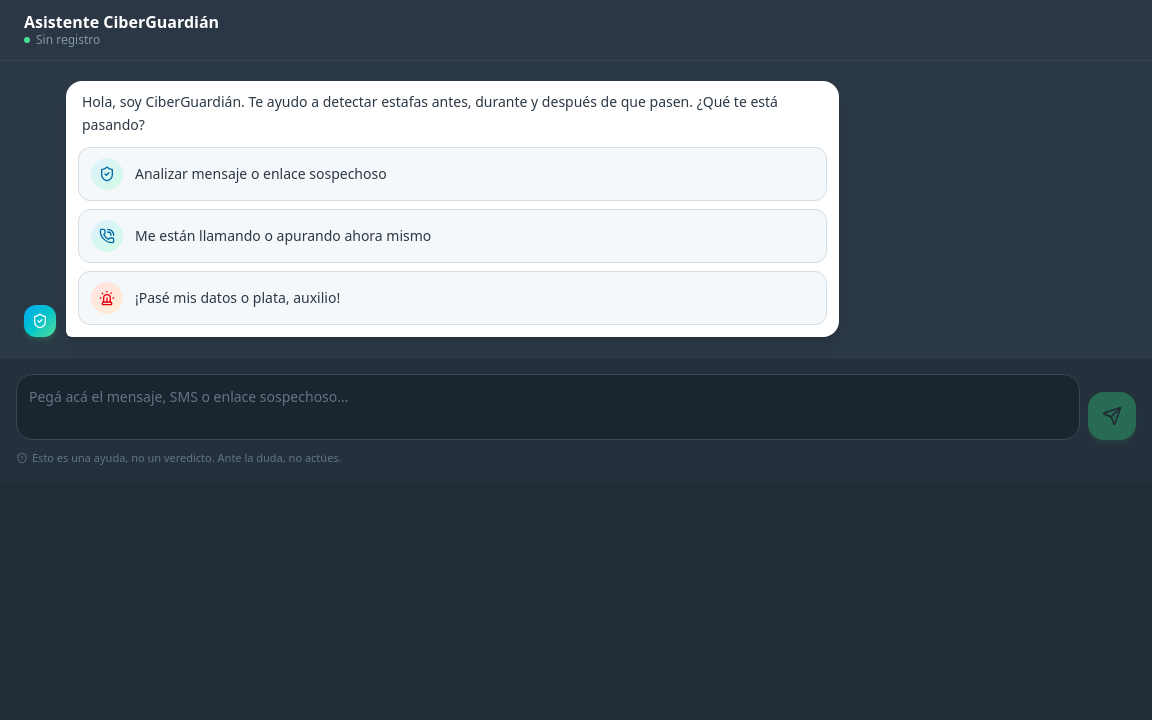
it: ChatAssistant › deja una guía en el chat si el análisis falla
Type "Banco Formosa: pasame el token urgente" into the text box named "Mensaje sospechoso".
click(548, 406); type("Banco Formosa: pasame el token urgente")  # box [16,374,1080,440]
Then press Enter
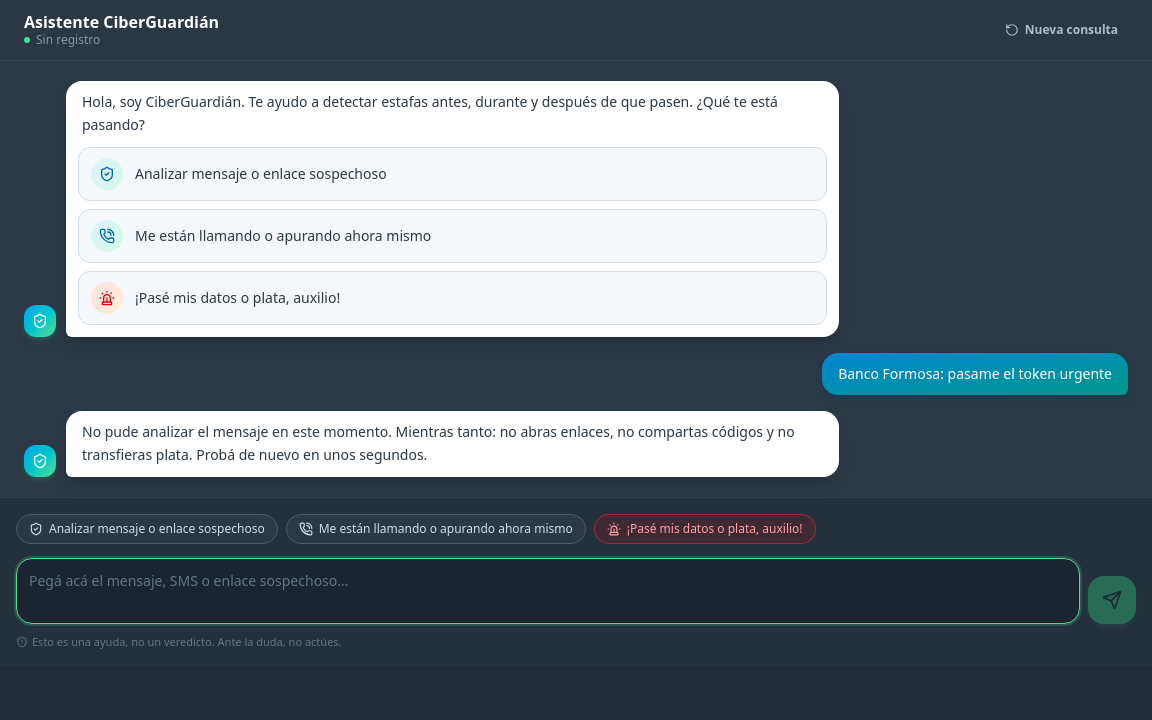
expect the text "No pude analizar el mensaje en este momento. Mientras tanto: no abras enlaces, no compartas códigos y no transfieras pla" is shown: met, box [82,422,798,464]
